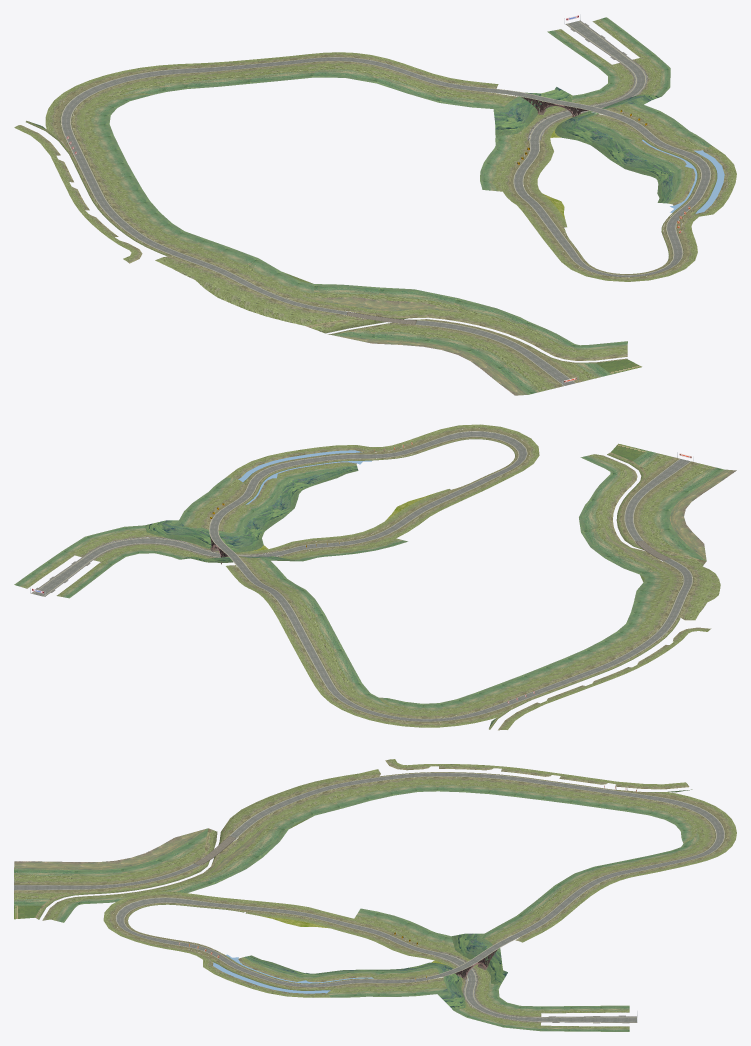
Rendered from stage-tuli-env.glb.
The picture shows the model from 3 angles, top to bottom: view 1: azimuth 30°, elevation 25°; view 2: azimuth 150°, elevation 25°; view 3: azimuth 270°, elevation 25°; orthographic projection. The views are drawn at different scales.
Parts seen in each view (by area): view 1: env part 0, env part 2; view 2: env part 0; view 3: env part 0, env part 2.
Boxes of the visible parts, <box> form: env part 0: <box>14,17,736,395</box>; env part 2: <box>347,95,588,324</box>; env part 0: <box>14,424,736,730</box>; env part 0: <box>14,759,736,1031</box>; env part 2: <box>194,836,497,980</box>.
Size of the model in its own units: 1379 by 133 by 1564.
31 materials, 30 textured.
